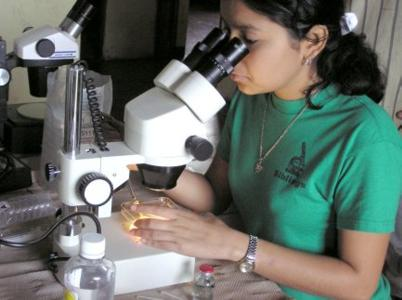person: (126, 2, 399, 300)
